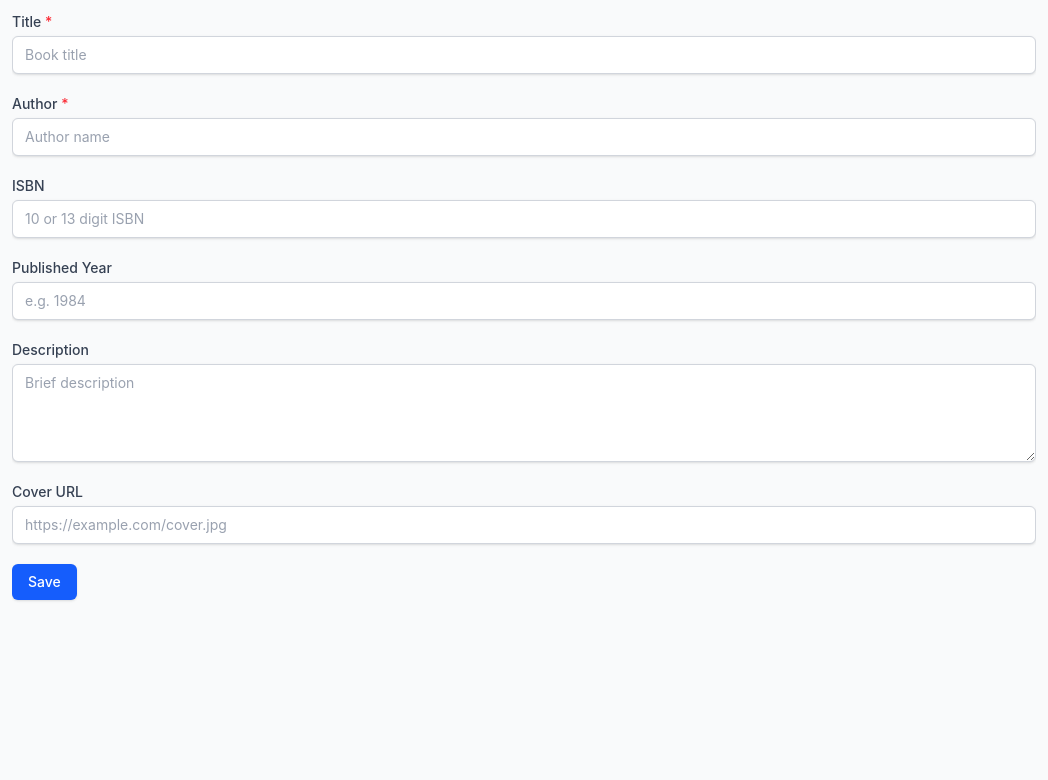
Test: BookForm › shows validation error when title is missing
Type "Author" into the field with id "book-author".
click(524, 137); type("Author")  # box [12, 118, 1036, 156]
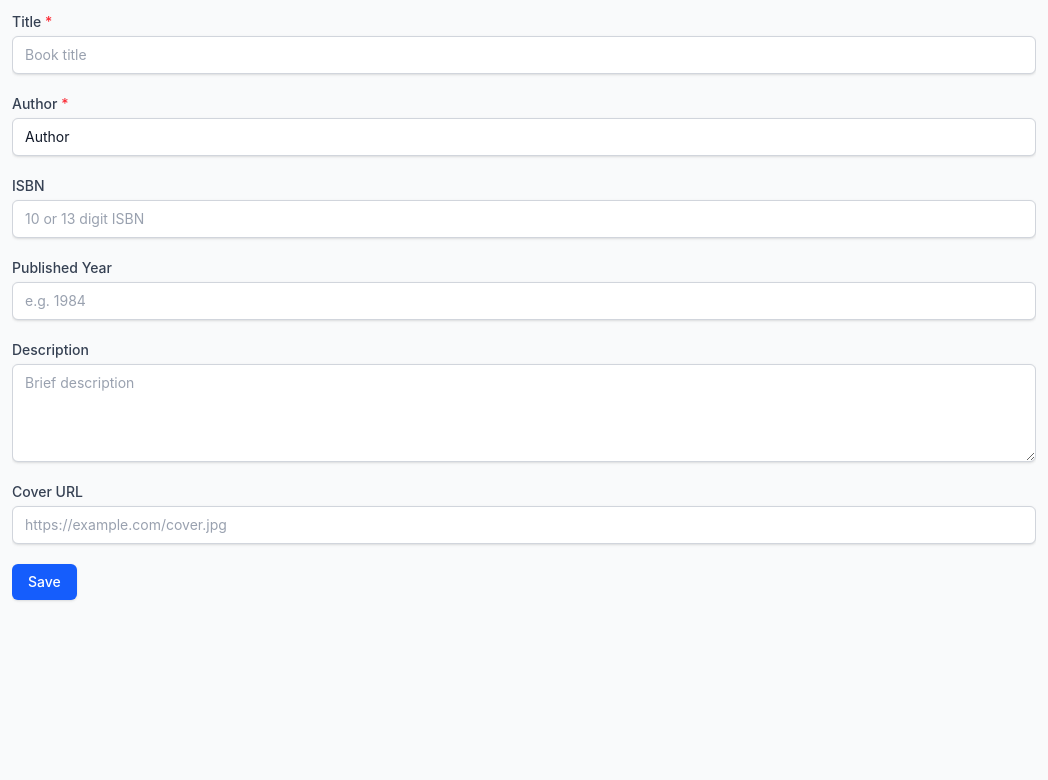
Submit the form
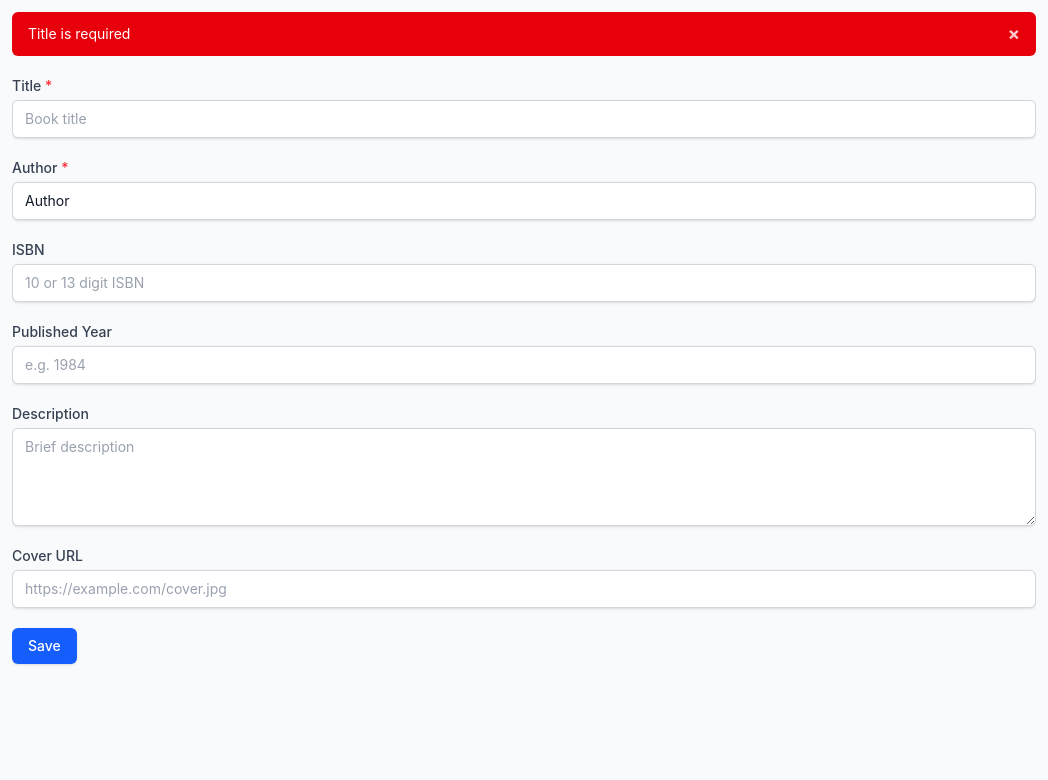
Now the form shows "Title is required", box [28, 25, 130, 42]
